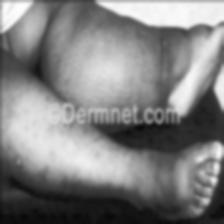Non-Cancerous Skin Condition: (70, 36, 106, 97)
